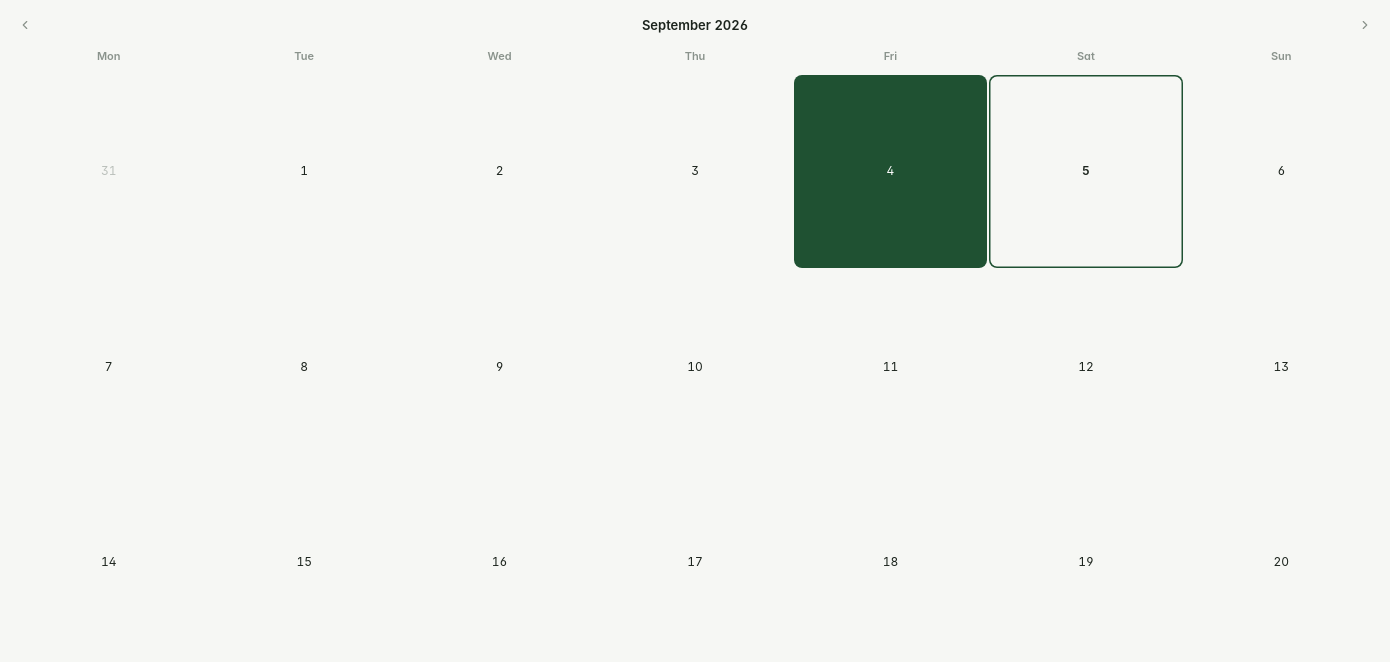
Test: MiniCalendar › navigates months without changing the selection
The image size is (1390, 662).
Click the button named "Next month": (1365, 25) [1352,12,1378,38]
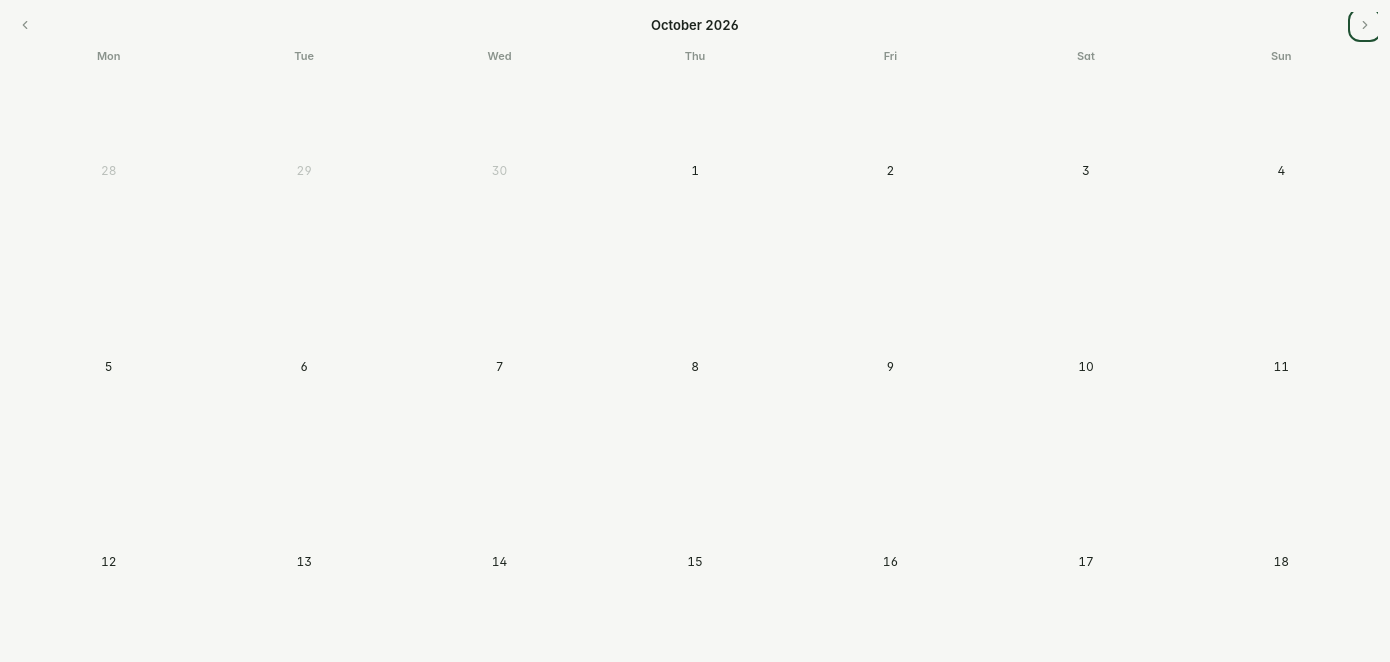
Result: the text "October 2026" is shown at [651,15,739,35]
